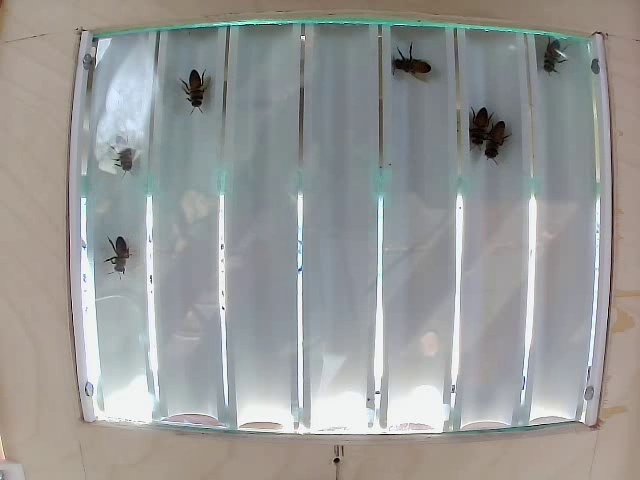bee: (539, 31, 575, 90), (178, 78, 216, 126), (392, 51, 433, 92), (99, 141, 145, 172), (112, 242, 144, 279), (490, 115, 512, 161), (465, 98, 484, 148)
